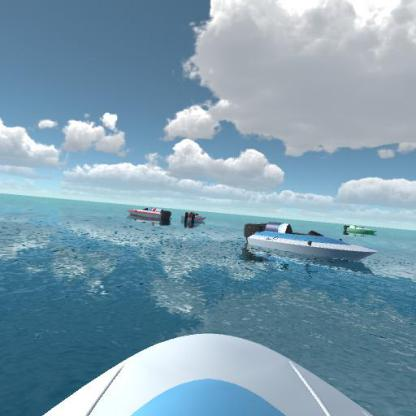usv0: (340, 221, 382, 240)
usv1: (241, 219, 378, 268)
usv3: (126, 202, 172, 228), (178, 207, 208, 229)
